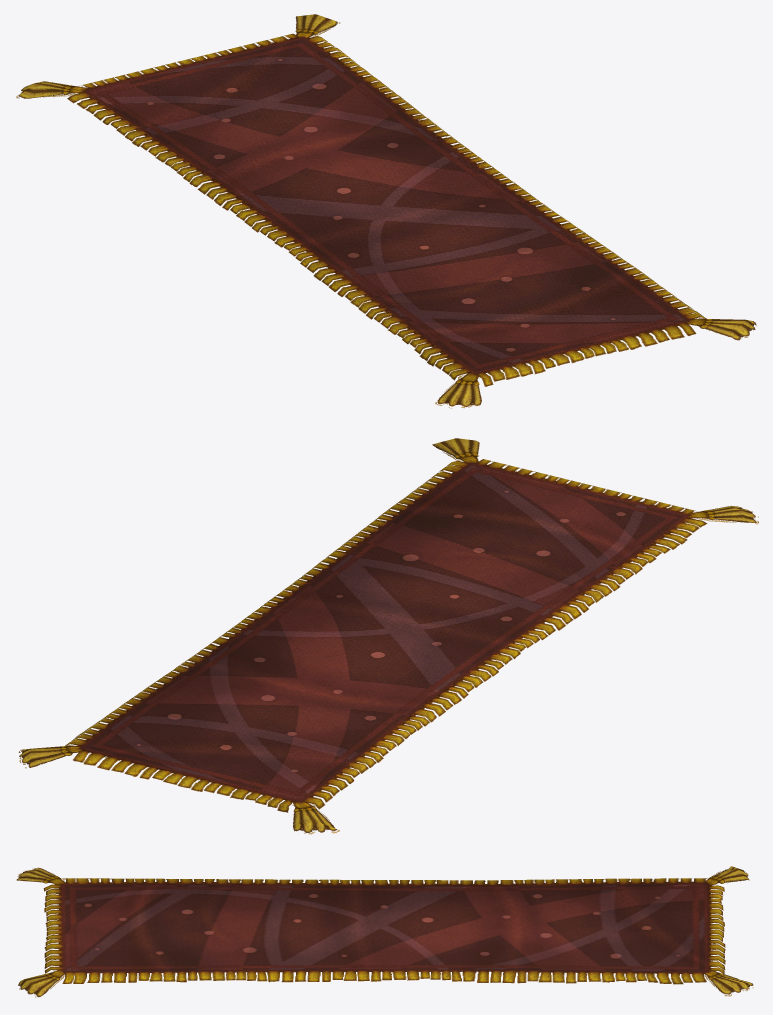
Rendered from carpet.obj.
The picture shows the model from 3 angles, top to bottom: view 1: azimuth 30°, elevation 25°; view 2: azimuth 150°, elevation 25°; view 3: azimuth 270°, elevation 25°; orthographic projection. The views are drawn at different scales.
Parts seen in each view (by area): view 1: carpet; view 2: carpet; view 3: carpet.
Boxes of the visible parts, <box> form: carpet: <box>16,14,756,408</box>; carpet: <box>18,438,758,834</box>; carpet: <box>16,866,753,997</box>.
Size of the model in its own units: 377 by 9.73 by 878.
1 material, 1 textured.
